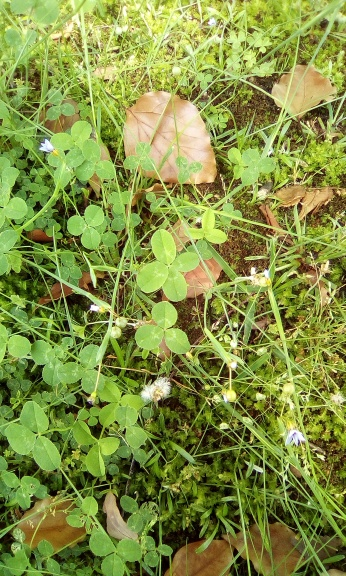4leaf: (136, 229, 200, 302)
